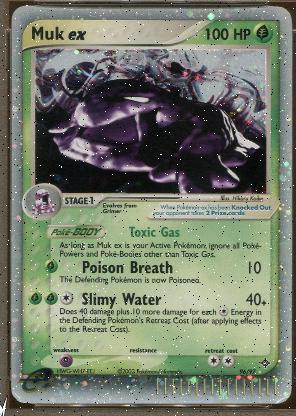Card: (7, 4, 293, 408)
